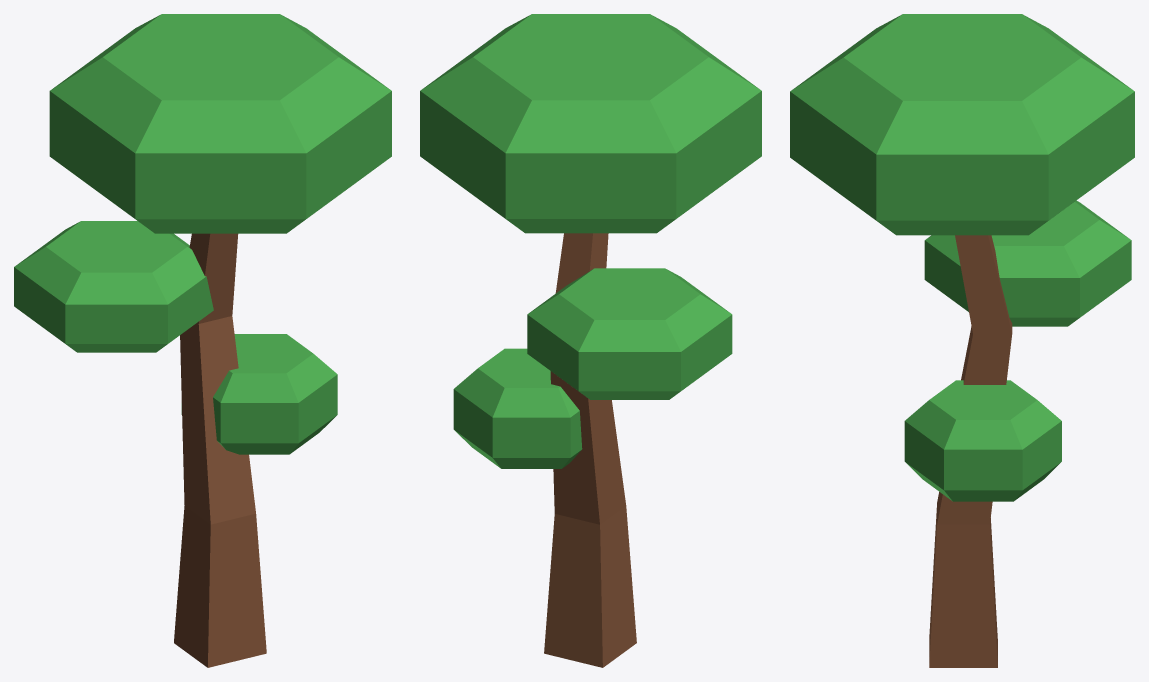
The model's file is tree_10.fbx.
The picture shows the model from 3 angles, left to right: view 1: azimuth 30°, elevation 25°; view 2: azimuth 150°, elevation 25°; view 3: azimuth 270°, elevation 25°; orthographic projection.
Visible parts, largest first — view 1: tree_10; view 2: tree_10; view 3: tree_10.
Part boxes in pixels (x1,y1,x2,y2): tree_10: [14, 14, 391, 667]; tree_10: [420, 14, 761, 667]; tree_10: [790, 14, 1134, 667].
Bounding box in the file's own units: 0.6117 × 1.25 × 0.6549.
1 material, 1 textured.
